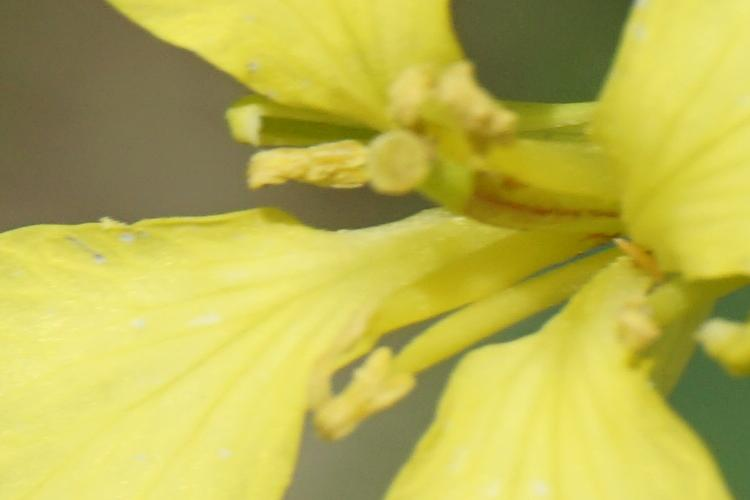yellow: (39, 11, 727, 483)
